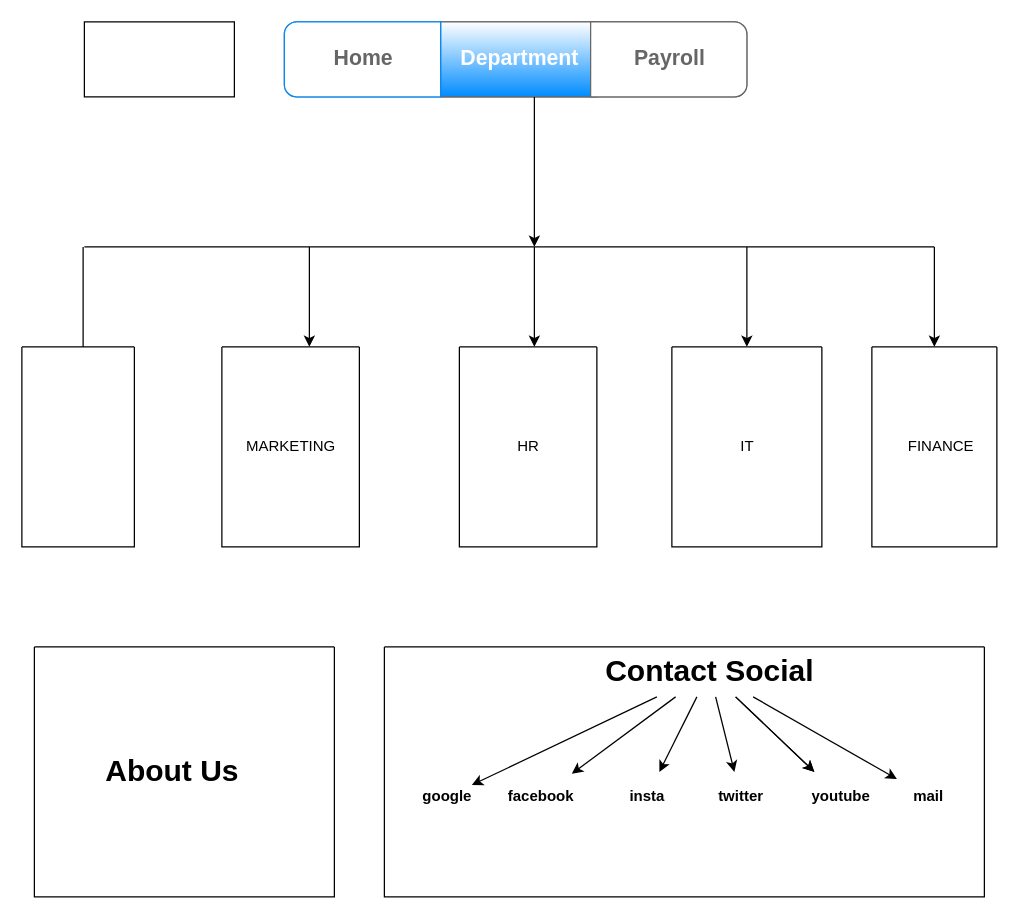
The diagram is 1019 pixels wide and 919 high, and some of its shapes have lost their labels. Here are the shapes that lost their labels. From the top down, the centre of each, then its label:
At (158,59): "Logo".
At (77,446): "SALE".
